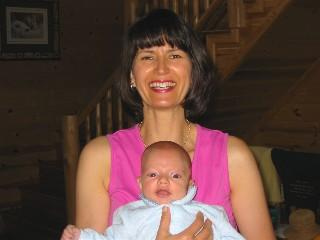without_mask: (128, 30, 200, 114), (135, 142, 198, 208)
